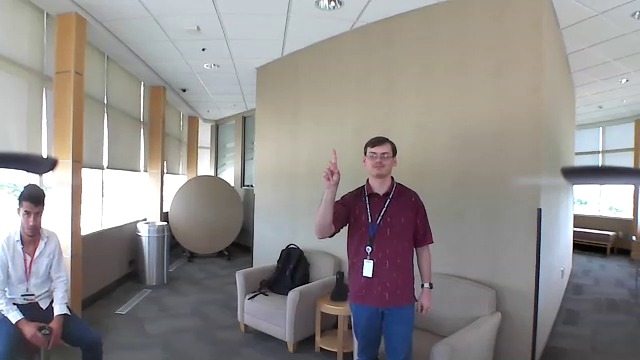up: (317, 146, 346, 193)
